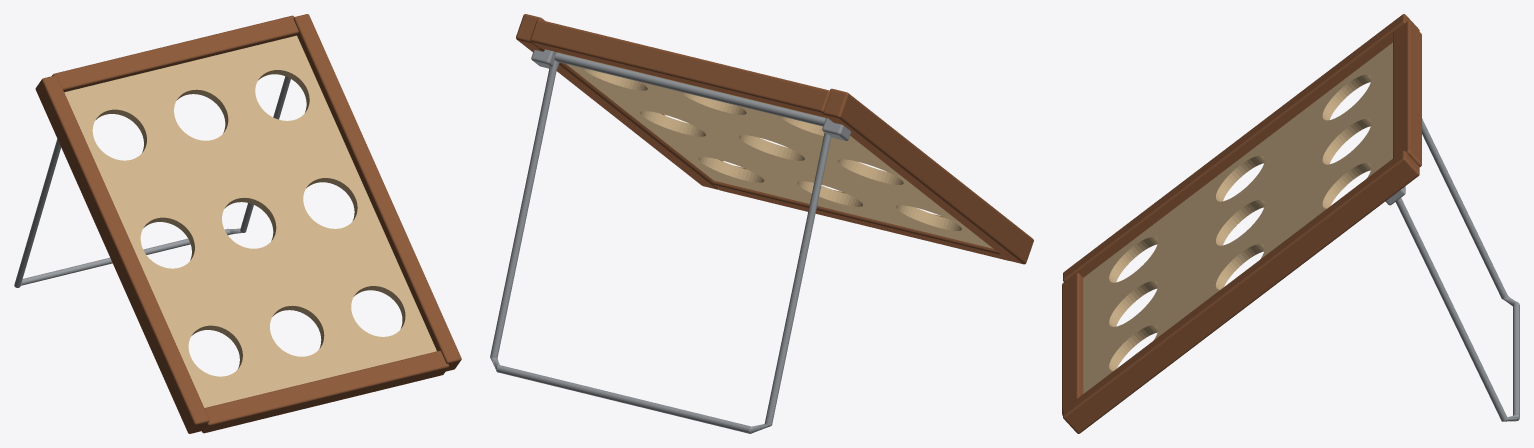
File: full.glb
3 views of the same model, side by side, from view 1: azimuth 30°, elevation 25°; view 2: azimuth 150°, elevation 25°; view 3: azimuth 270°, elevation 25° (orthographic). The views are drawn at different scales.
Parts seen in each view (by area): view 1: Single face with nine real through holes, Long raised side rail -1, Long raised side rail 1, Cross end rail -1, Cross end rail 1, Bent rear support loop; view 2: Single face with nine real through holes, Cross end rail 1, Long raised side rail -1, Bent rear support loop, Long raised side rail 1, Captive transverse pivot, Cross end rail -1; view 3: Single face with nine real through holes, Long raised side rail 1, Long raised side rail -1, Bent rear support loop, Cross end rail 1, Cross end rail -1.
Boxes of the visible parts, x1,y1,x2,y2 form: Single face with nine real through holes: (64, 35, 436, 407); Long raised side rail -1: (35, 75, 209, 433); Long raised side rail 1: (293, 14, 461, 371); Cross end rail -1: (202, 350, 448, 433); Cross end rail 1: (52, 15, 298, 92); Bent rear support loop: (14, 76, 290, 287); Single face with nine real through holes: (556, 52, 992, 248); Cross end rail 1: (530, 19, 830, 118); Long raised side rail -1: (822, 88, 1033, 264); Bent rear support loop: (490, 60, 831, 433); Long raised side rail 1: (516, 14, 723, 189); Captive transverse pivot: (554, 53, 825, 126); Cross end rail -1: (712, 166, 1008, 260); Single face with nine real through holes: (1083, 42, 1392, 393); Long raised side rail 1: (1063, 151, 1419, 433); Long raised side rail -1: (1063, 14, 1419, 282); Bent rear support loop: (1395, 118, 1519, 421); Cross end rail 1: (1393, 21, 1421, 166); Cross end rail -1: (1062, 273, 1083, 415).
Bounding box in the file's own units: 0.592 × 0.5303 × 0.7887.
